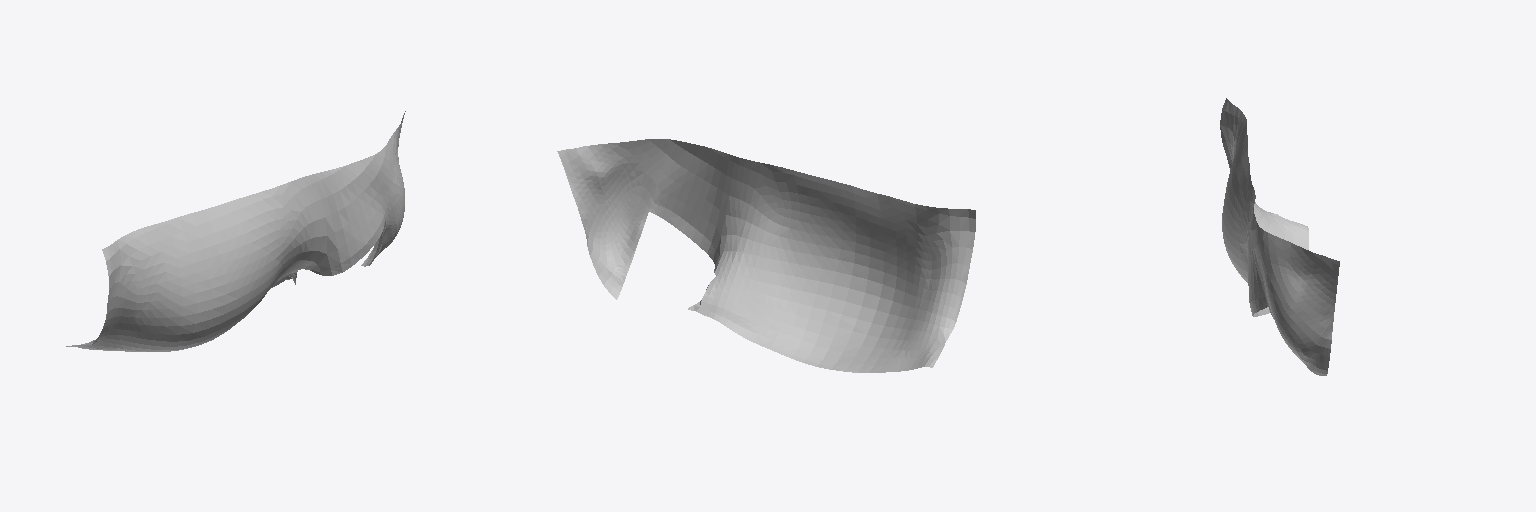
Rendered from cavalier_remaining_body_right.obj.
3 renders of one model, left to right at view 1: azimuth 30°, elevation 25°; view 2: azimuth 150°, elevation 25°; view 3: azimuth 270°, elevation 25°, orthographic.
Parts seen in each view (by area): view 1: 15548_French_Horseman_v1.004, 15548_French_Horseman_v1.002; view 2: 15548_French_Horseman_v1.004, 15548_French_Horseman_v1.002, 15548_French_Horseman_v1.005; view 3: 15548_French_Horseman_v1.002, 15548_French_Horseman_v1.004.
Part boxes in pixels (bbox=[...]): 15548_French_Horseman_v1.004: bbox=[66, 155, 385, 351]; 15548_French_Horseman_v1.002: bbox=[361, 111, 405, 266]; 15548_French_Horseman_v1.004: bbox=[649, 140, 975, 372]; 15548_French_Horseman_v1.002: bbox=[557, 139, 670, 299]; 15548_French_Horseman_v1.005: bbox=[688, 277, 808, 364]; 15548_French_Horseman_v1.002: bbox=[1258, 227, 1339, 375]; 15548_French_Horseman_v1.004: bbox=[1220, 98, 1308, 316].
Size of the model in its own units: 6.05 by 2.66 by 1.75.